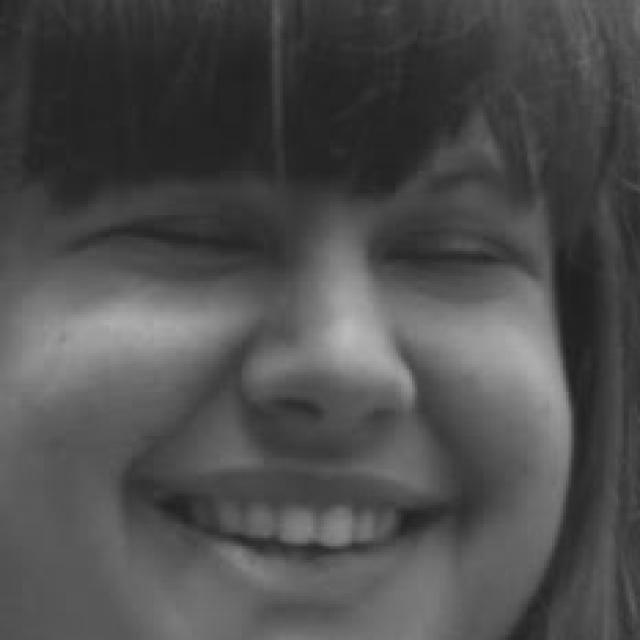real: (14, 0, 566, 637), (87, 141, 536, 295)
